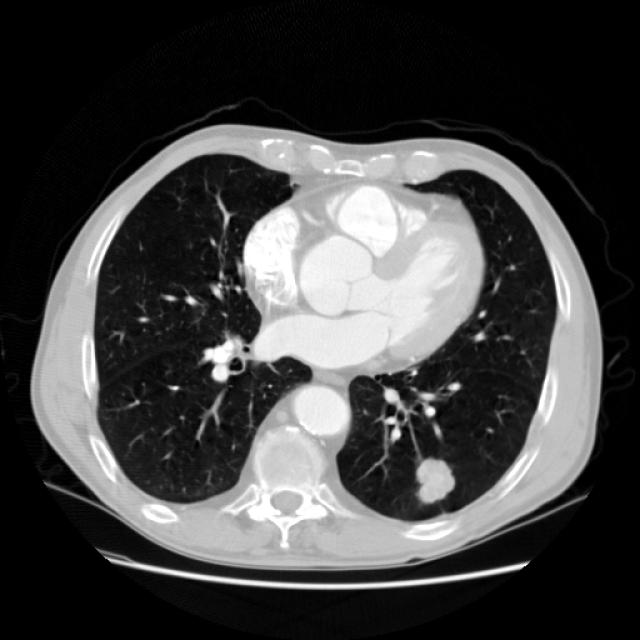nodule: (385, 433, 477, 525)
